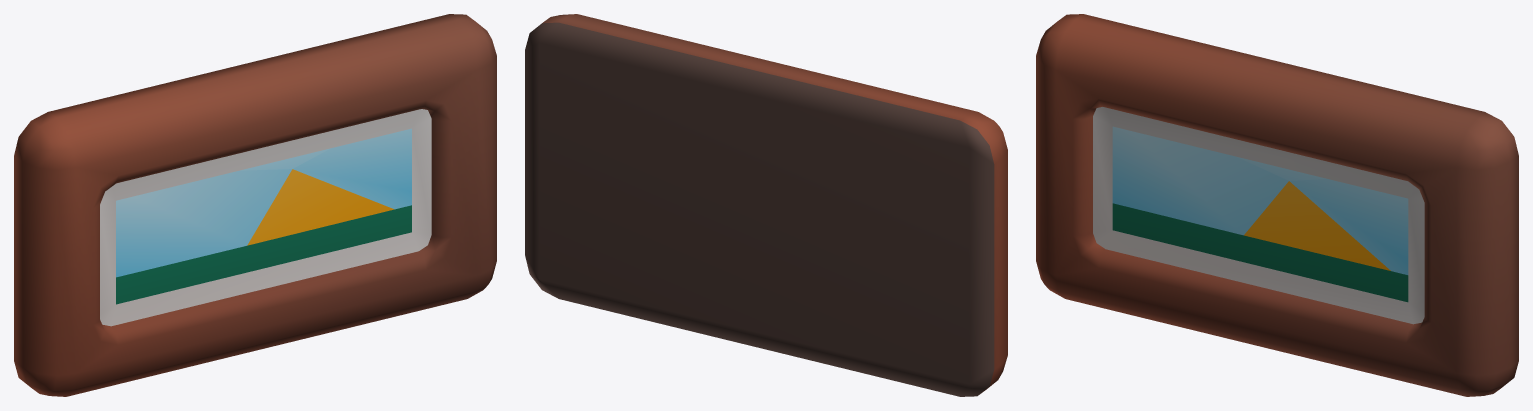
File: Picture_13.glb
3 views of the same model, side by side, from view 1: azimuth 30°, elevation 25°; view 2: azimuth 150°, elevation 25°; view 3: azimuth 330°, elevation 25° (orthographic).
Parts seen in each view (by area): view 1: Picture_13; view 2: Picture_13; view 3: Picture_13.
Boxes of the visible parts, x1=… form: Picture_13: x1=14, y1=14, x2=496, y2=396; Picture_13: x1=525, y1=14, x2=1007, y2=396; Picture_13: x1=1036, y1=14, x2=1518, y2=396.
Bounding box in the file's own units: 0.4773 × 0.2687 × 0.0585.
1 material, 1 textured.
